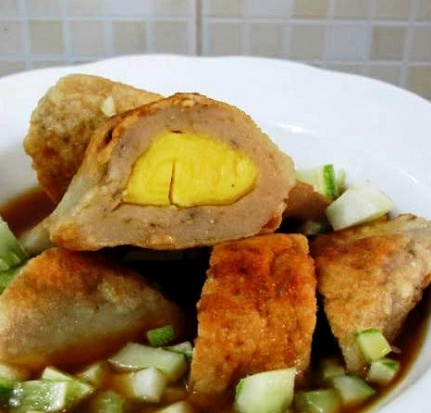pempek: (1, 75, 431, 360)
